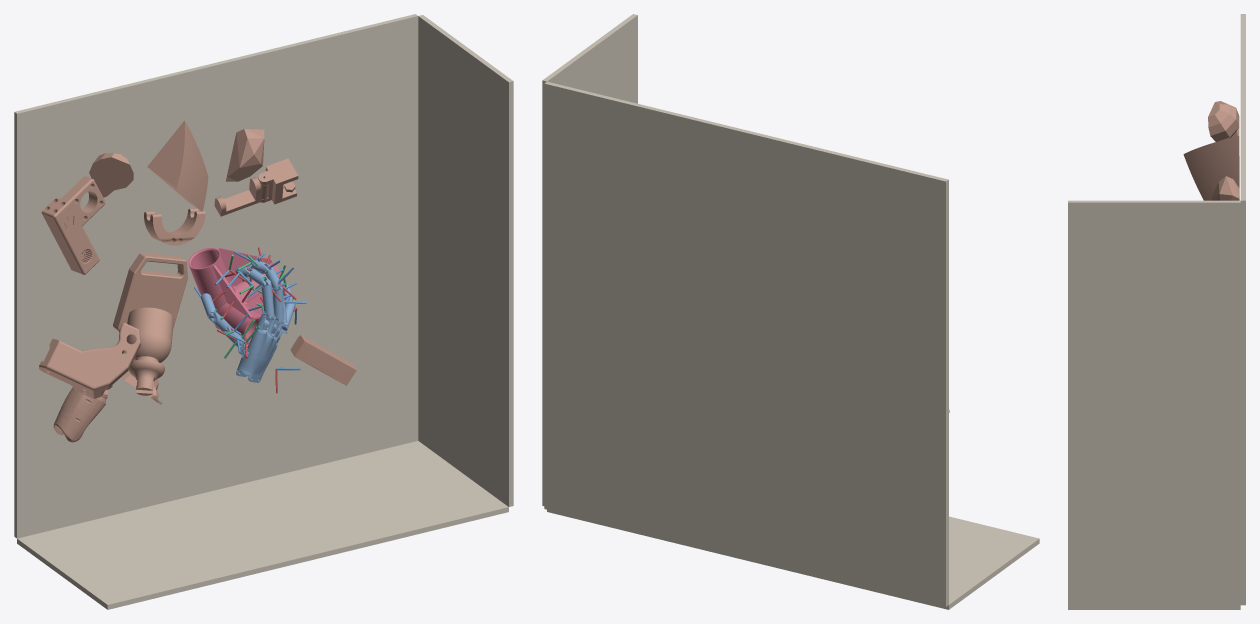
The picture shows the model from 3 angles, left to right: view 1: azimuth 30°, elevation 25°; view 2: azimuth 150°, elevation 25°; view 3: azimuth 270°, elevation 25°; orthographic projection. The views are drawn at different scales.
Visible parts, largest first — view 1: environment, hand, local_object_000, target_object, local_object_001, local_object_007, local_object_006, local_object_005, local_object_004, local_object_002, local_object_003, local_object_009 (+2 smaller); view 2: environment; view 3: environment, local_object_006, local_object_008, local_object_003.
Part boxes in pixels (x1,y1,x2,y2): environment: (14, 14, 513, 609); hand: (201, 260, 295, 382); local_object_000: (39, 323, 140, 398); target_object: (188, 248, 286, 344); local_object_001: (41, 176, 105, 274); local_object_007: (113, 252, 187, 331); local_object_006: (147, 120, 208, 211); local_object_005: (127, 307, 173, 395); local_object_004: (214, 158, 298, 216); local_object_002: (53, 384, 112, 442); local_object_003: (226, 129, 264, 181); local_object_009: (290, 335, 356, 385); environment: (542, 14, 1039, 609); environment: (1068, 14, 1245, 609); local_object_006: (1183, 136, 1239, 200); local_object_008: (1208, 101, 1239, 141); local_object_003: (1211, 176, 1239, 200).
Size of the model in its own units: 0.6823 by 0.6903 by 0.2719.
